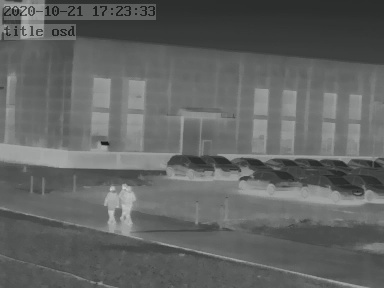person: (118, 183, 136, 224), (103, 184, 119, 228)
vehicle: (305, 173, 359, 200), (237, 169, 303, 191), (164, 153, 213, 179), (203, 153, 242, 177), (349, 173, 383, 200), (233, 155, 270, 171), (261, 155, 296, 169), (348, 156, 380, 170), (296, 155, 324, 169), (319, 156, 347, 169)
